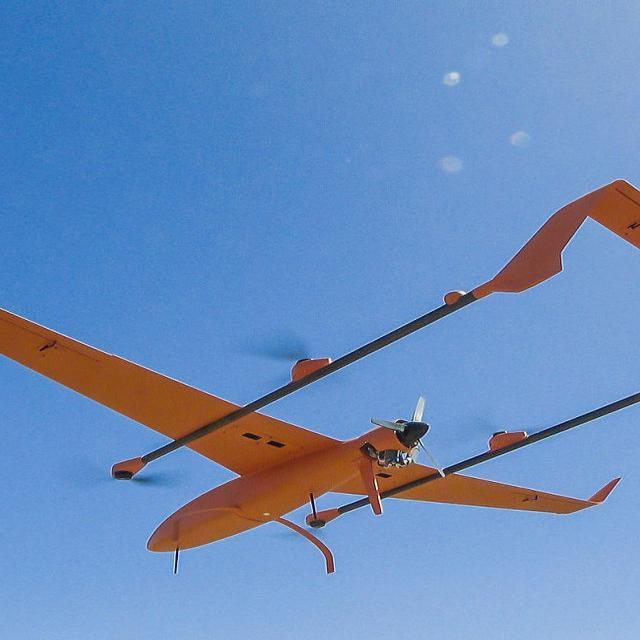iha: (9, 175, 640, 564)
